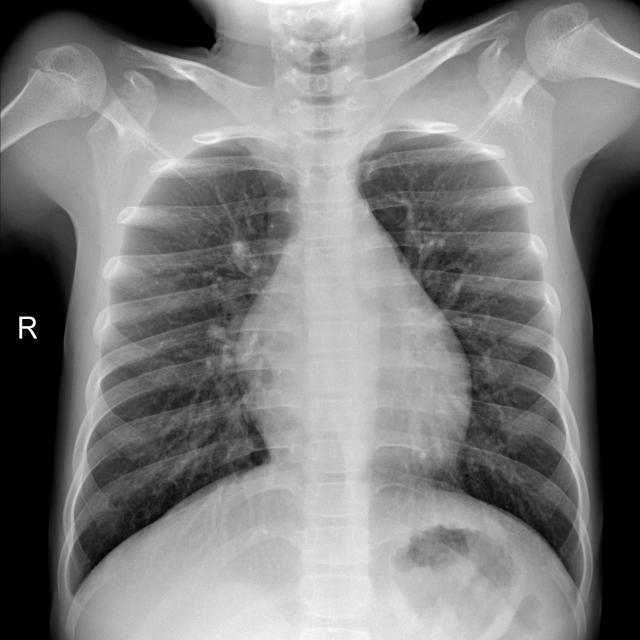no-pneumonia: (61, 137, 299, 592), (361, 132, 588, 583)
